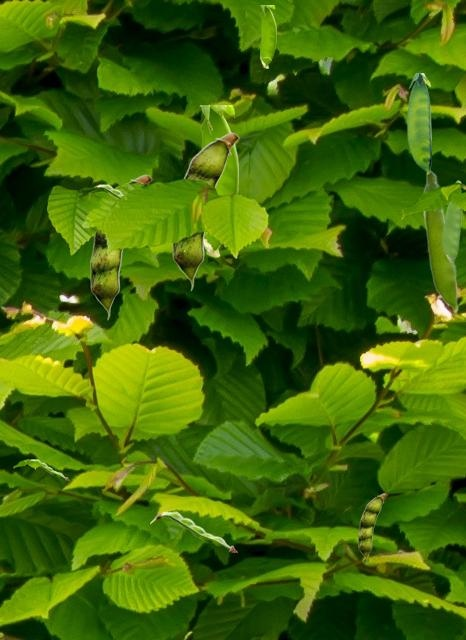pea: (172, 132, 238, 290), (90, 174, 151, 319), (199, 105, 237, 256), (423, 170, 458, 314), (150, 511, 236, 551), (407, 73, 430, 173), (358, 493, 386, 561), (442, 180, 461, 261), (260, 5, 275, 67), (32, 459, 68, 479), (94, 184, 123, 198)
